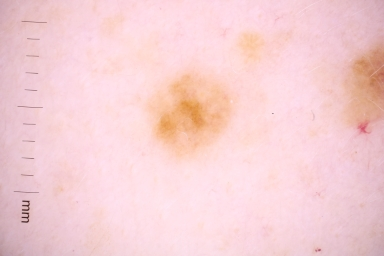melanoma: (147, 69, 235, 154), (340, 44, 384, 127), (234, 31, 267, 63)
